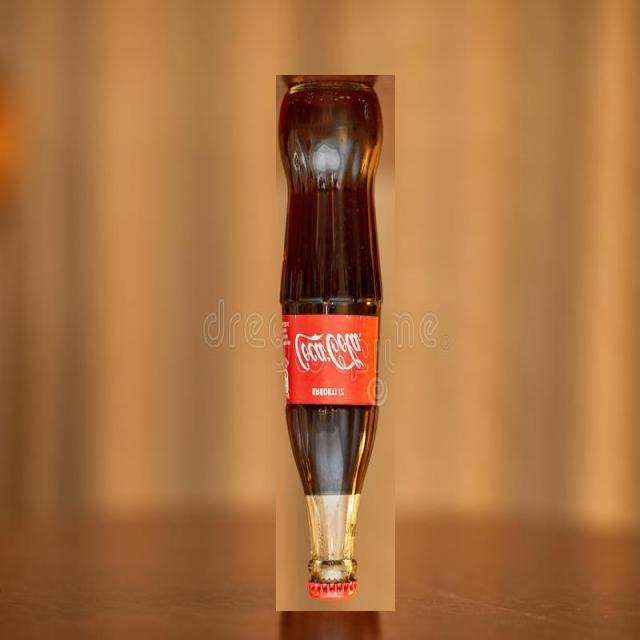coca-cola: (276, 75, 395, 611)
